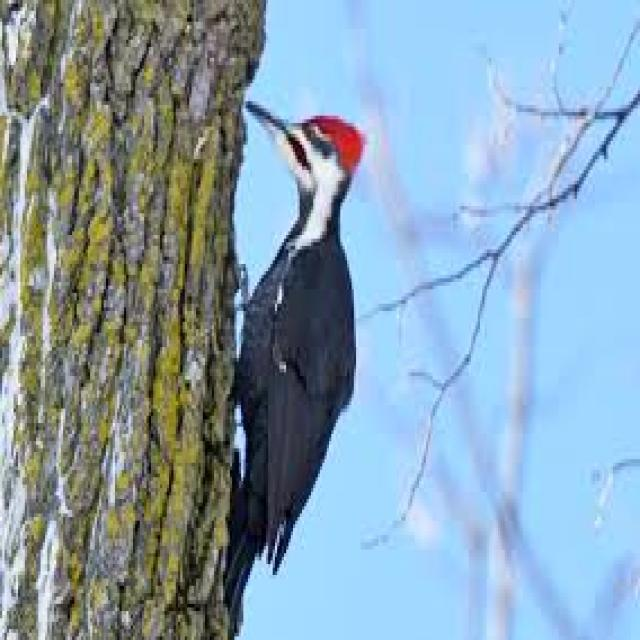woodpecker: (225, 101, 361, 629)
